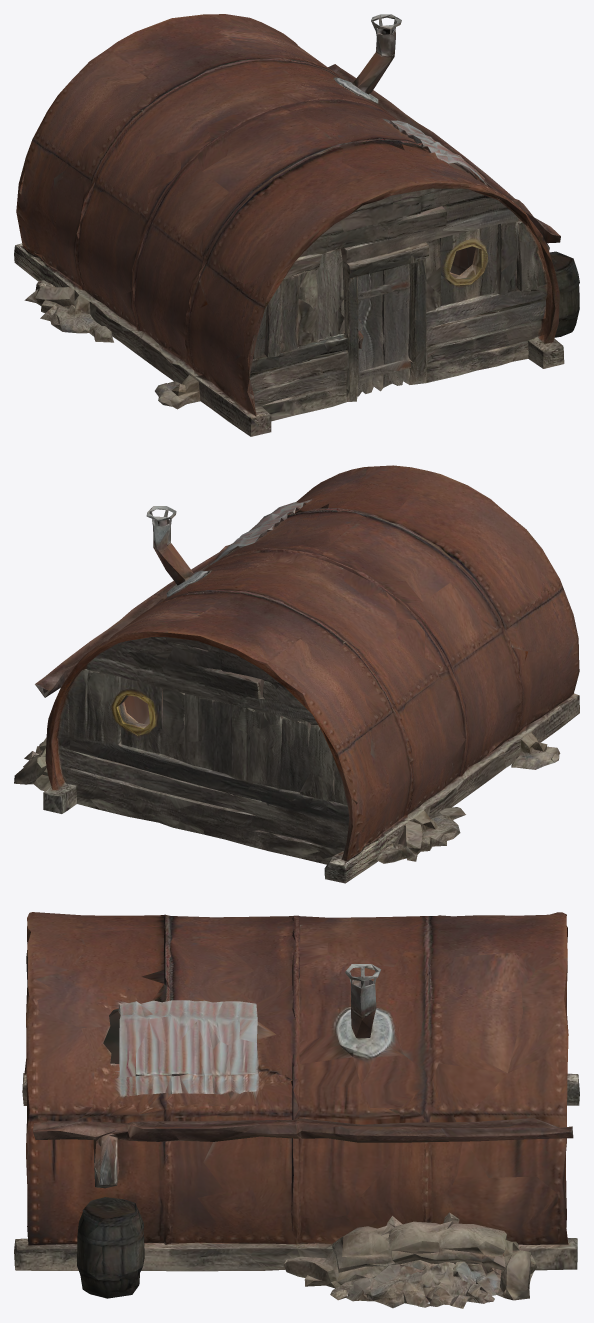
The model's file is shack_c.glb.
The picture shows the model from 3 angles, top to bottom: view 1: azimuth 30°, elevation 25°; view 2: azimuth 150°, elevation 25°; view 3: azimuth 270°, elevation 25°; orthographic projection. The views are drawn at different scales.
Visible parts, largest first — view 1: mesh_node; view 2: mesh_node; view 3: mesh_node.
Boxes of the visible parts, x1,y1,x2,y2 form: mesh_node: (14,14,579,436); mesh_node: (14,465,579,883); mesh_node: (14,912,579,1308).
Size of the model in its own units: 1.88 by 1.05 by 1.9.
Materials: 1 (1 with a texture image).
